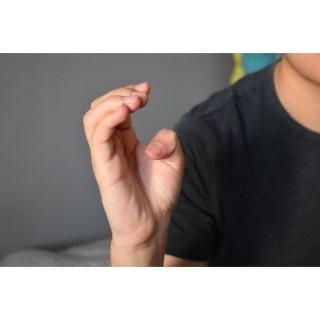JEEM: (81, 79, 195, 253)
